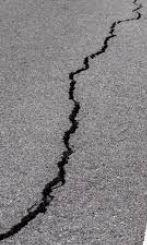crack: (0, 0, 144, 245)
